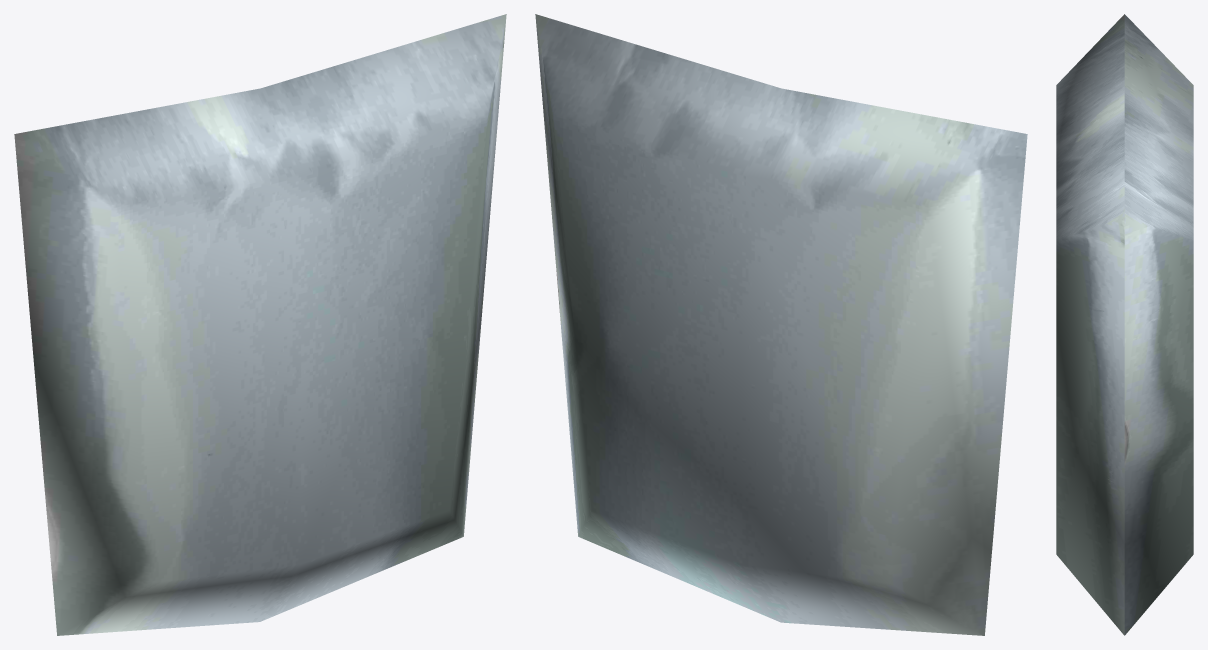
File: bag_0.fbx
3 renders of one model, left to right at view 1: azimuth 30°, elevation 25°; view 2: azimuth 150°, elevation 25°; view 3: azimuth 270°, elevation 25°, orthographic. The views are drawn at different scales.
Visible parts, largest first — view 1: Cube; view 2: Cube; view 3: Cube.
Part boxes in pixels (x1,y1,x2,y2): Cube: (14,14,506,635); Cube: (535,14,1027,635); Cube: (1056,14,1193,635).
Bounding box in the file's own units: 38.13 × 40.58 × 10.84.
